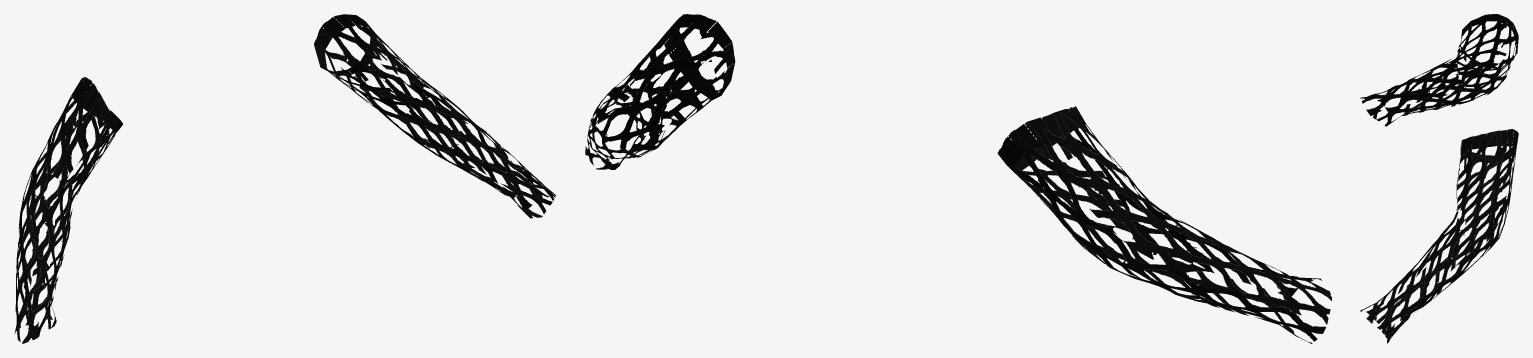
Rendered from mhw_v0rt3x_armsleeves_black_fishnet_large.glb.
3 renders of one model, left to right at view 1: azimuth 30°, elevation 25°; view 2: azimuth 150°, elevation 25°; view 3: azimuth 270°, elevation 25°, orthographic. The views are drawn at different scales.
Visible parts, largest first — view 1: mhw_v0rt3x_armsleeves_black_fishnet_large; view 2: mhw_v0rt3x_armsleeves_black_fishnet_large; view 3: mhw_v0rt3x_armsleeves_black_fishnet_large.
Boxes of the visible parts, x1=… form: mhw_v0rt3x_armsleeves_black_fishnet_large: x1=14, y1=14, x2=556, y2=343; mhw_v0rt3x_armsleeves_black_fishnet_large: x1=585, y1=14, x2=1331, y2=343; mhw_v0rt3x_armsleeves_black_fishnet_large: x1=1360, y1=14, x2=1518, y2=343.
Size of the model in its own units: 1.14 by 0.3737 by 0.3332.
Materials: 1 (1 with a texture image).
